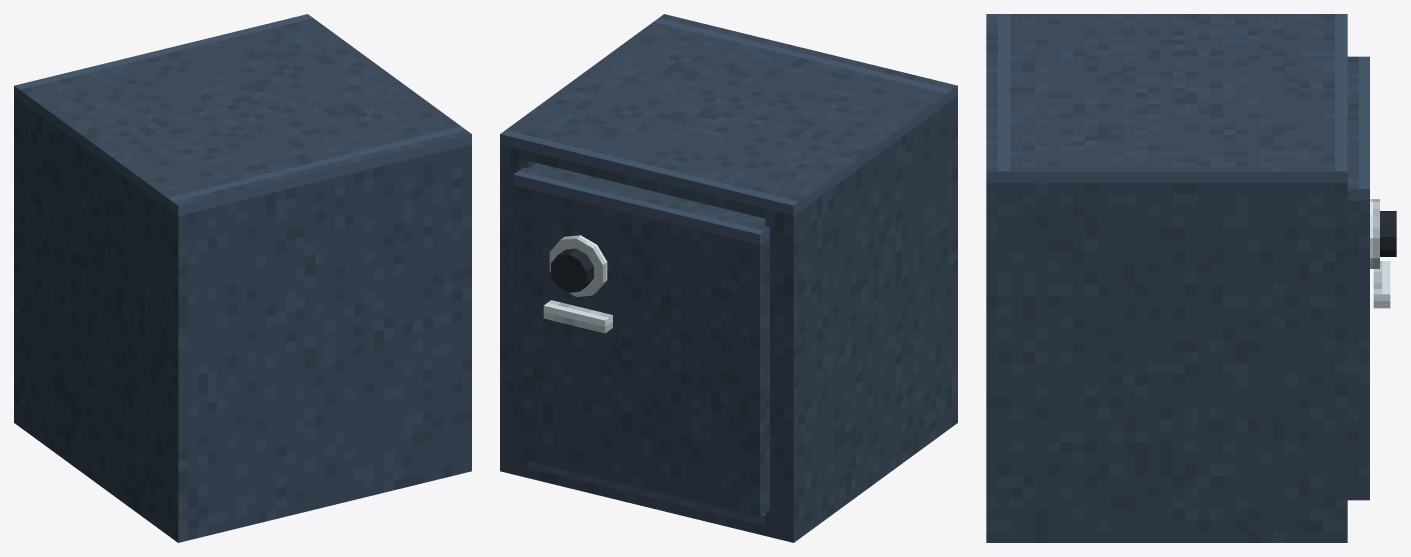
The model's file is f_safe_l.glb.
The picture shows the model from 3 angles, left to right: view 1: azimuth 30°, elevation 25°; view 2: azimuth 150°, elevation 25°; view 3: azimuth 270°, elevation 25°; orthographic projection. The views are drawn at different scales.
Parts seen in each view (by area): view 1: block_back, block_side--0.28, block_shelf-1, block_side-0.28; view 2: block_armored-door, block_side--0.28, block_shelf-1, block_side-0.28, block_back, block_shelf-0, block_combination-dial, block_numbered-dial-ring, block_handle; view 3: block_side-0.28, block_shelf-1, block_back, block_armored-door, block_side--0.28, block_handle, block_combination-dial, block_numbered-dial-ring.
Part boxes in pixels (x1,y1,x2,y2): block_back: [167, 126, 471, 542]; block_side--0.28: [14, 78, 195, 534]; block_shelf-1: [43, 21, 431, 190]; block_side-0.28: [280, 14, 460, 132]; block_armored-door: [513, 163, 769, 517]; block_side--0.28: [765, 86, 946, 542]; block_shelf-1: [528, 29, 917, 218]; block_side-0.28: [500, 22, 680, 477]; block_back: [653, 14, 957, 430]; block_shelf-0: [528, 461, 765, 535]; block_combination-dial: [551, 248, 593, 292]; block_numbered-dial-ring: [549, 235, 607, 296]; block_handle: [543, 300, 612, 333]; block_side-0.28: [1010, 156, 1347, 542]; block_shelf-1: [1010, 29, 1347, 156]; block_back: [986, 14, 1010, 542]; block_armored-door: [1347, 56, 1369, 500]; block_side--0.28: [1010, 14, 1347, 29]; block_handle: [1373, 261, 1390, 308]; block_combination-dial: [1380, 211, 1396, 256]; block_numbered-dial-ring: [1370, 199, 1379, 268].
Size of the model in its own units: 0.62 by 0.68 by 0.6815.
Materials: 1 (1 with a texture image).
